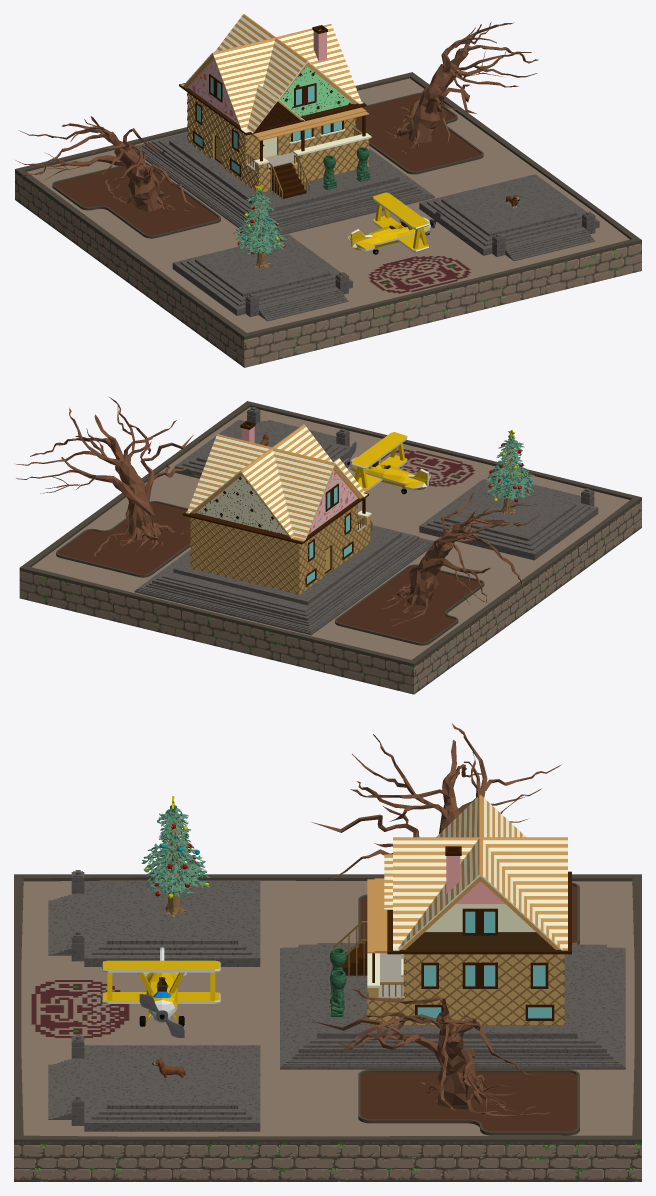
3 views of the same model, one above another, from view 1: azimuth 30°, elevation 25°; view 2: azimuth 150°, elevation 25°; view 3: azimuth 270°, elevation 25° (orthographic). The views are drawn at different scales.
Visible parts, largest first — view 1: Cube.011, Cube.1102, VEHICLES_AIRPLANE, OBJRANDOM_CHRISTMAS_TREE; view 2: Cube.011, Cube.1102, VEHICLES_AIRPLANE, OBJRANDOM_CHRISTMAS_TREE; view 3: Cube.011, Cube.1102, VEHICLES_AIRPLANE, OBJRANDOM_CHRISTMAS_TREE.
Boxes of the visible parts, x1,y1,x2,y2 form: Cube.011: (15,22,641,367); Cube.1102: (179,14,371,199); VEHICLES_AIRPLANE: (348,192,441,254); OBJRANDOM_CHRISTMAS_TREE: (233,184,286,268); Cube.011: (14,397,641,694); Cube.1102: (182,421,372,594); VEHICLES_AIRPLANE: (344,432,431,494); OBJRANDOM_CHRISTMAS_TREE: (484,429,534,514); Cube.011: (14,723,641,1181); Cube.1102: (333,795,571,1025); VEHICLES_AIRPLANE: (102,947,220,1037); OBJRANDOM_CHRISTMAS_TREE: (141,796,210,916).
Bounding box in the file's own units: 5099 × 1812 × 4000.
37 materials, 6 textured.
